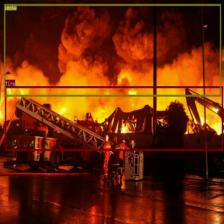fire: (5, 86, 222, 150)
smoke: (4, 4, 221, 96)
